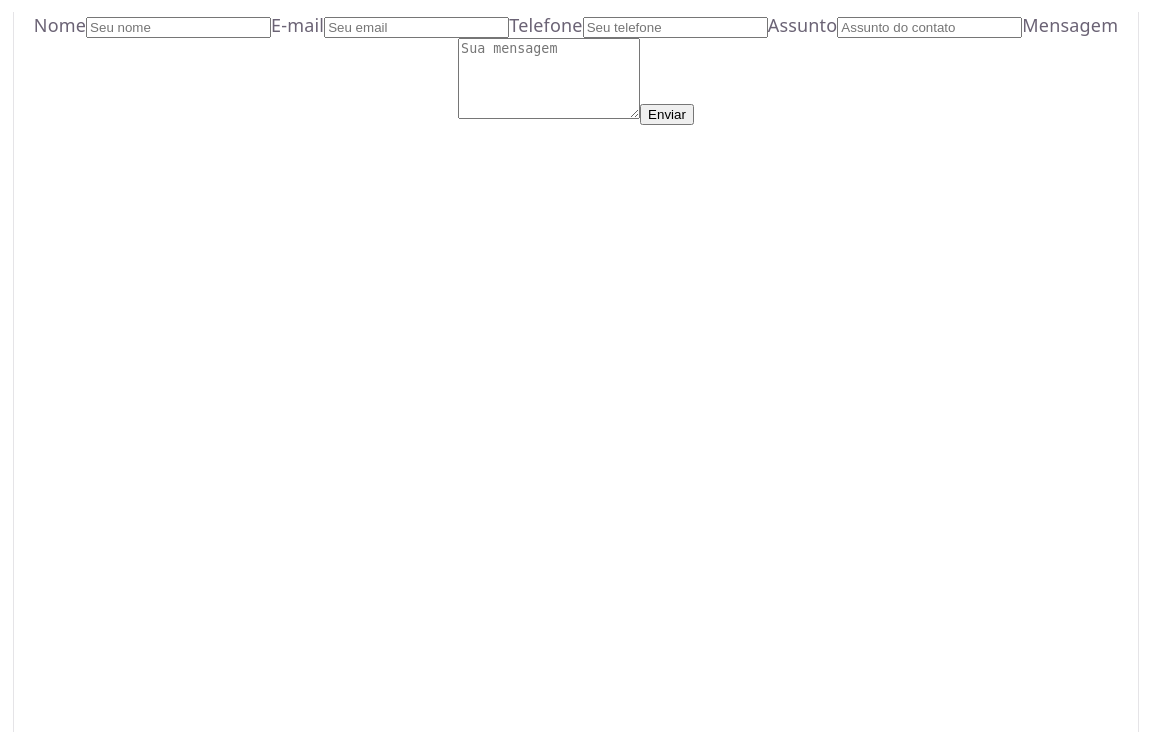
it: Formulário de contato › envia o formulário e apresenta uma confirmação
In the field labelled "Nome": {"x": 179, "y": 28} x1=86 y1=17 x2=271 y2=38, type "Usuario Teste"
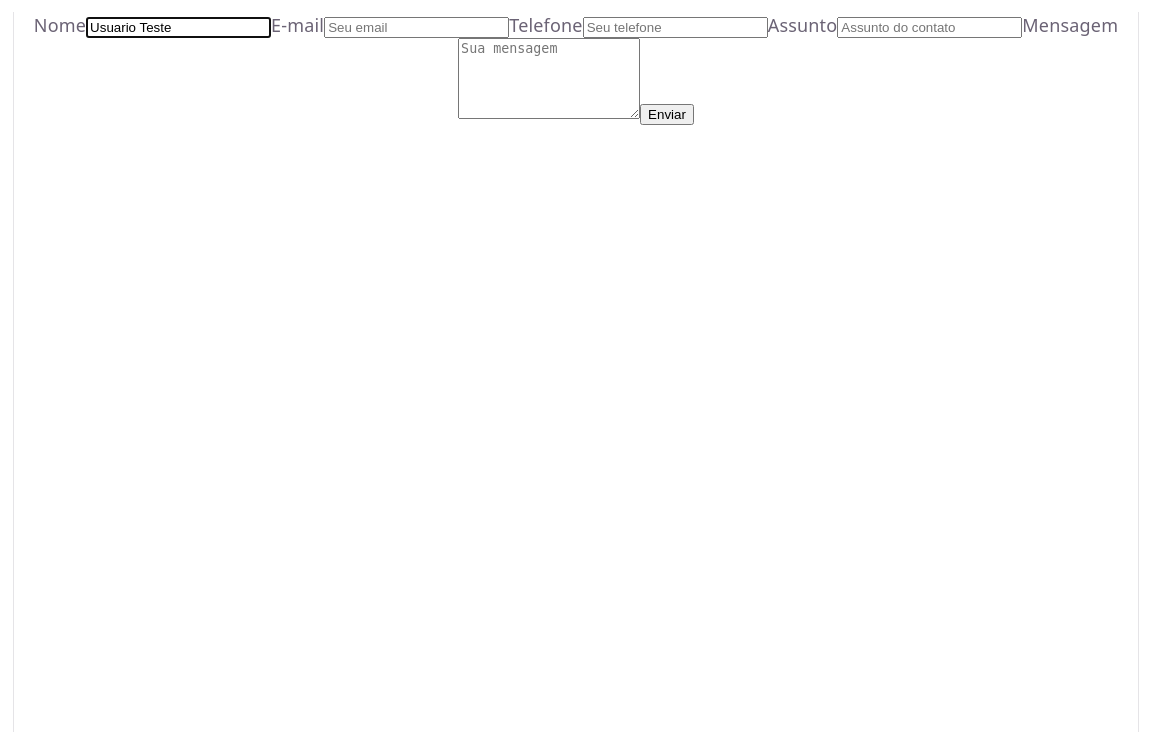
In the field labelled "E-mail": {"x": 417, "y": 28} x1=324 y1=17 x2=509 y2=38, type "teste@email.com"
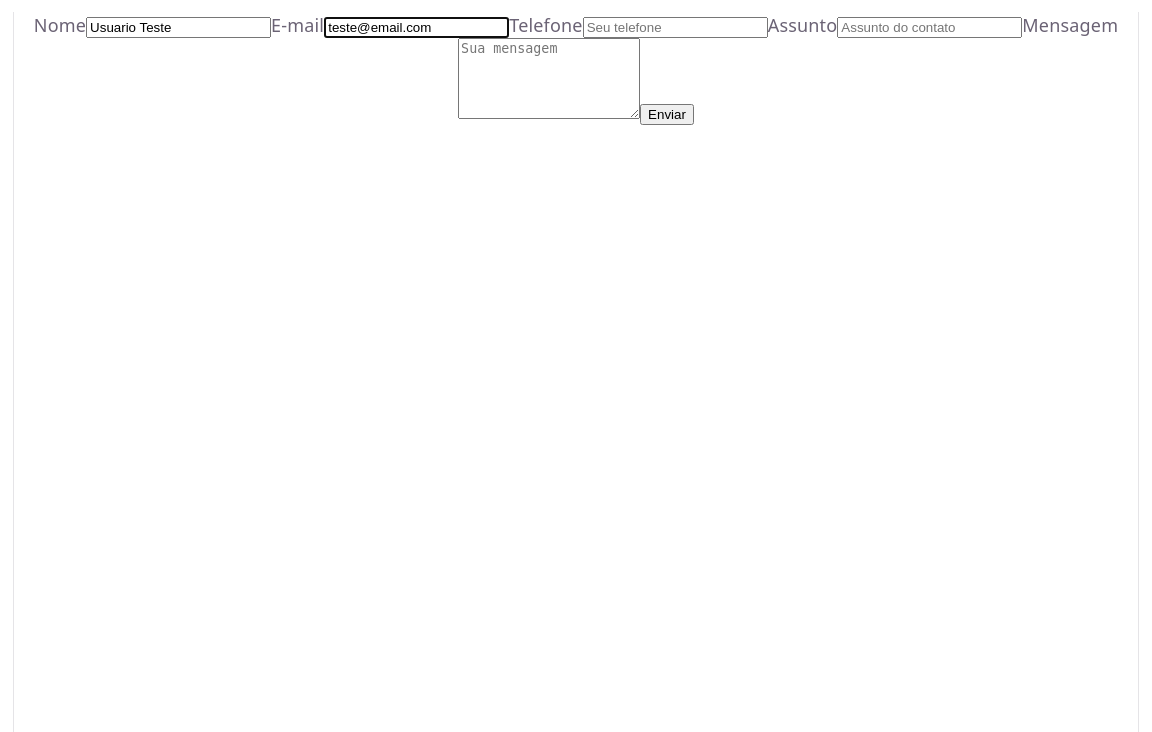
In the field labelled "Telefone": {"x": 675, "y": 28} x1=583 y1=17 x2=768 y2=38, type "31999999999"
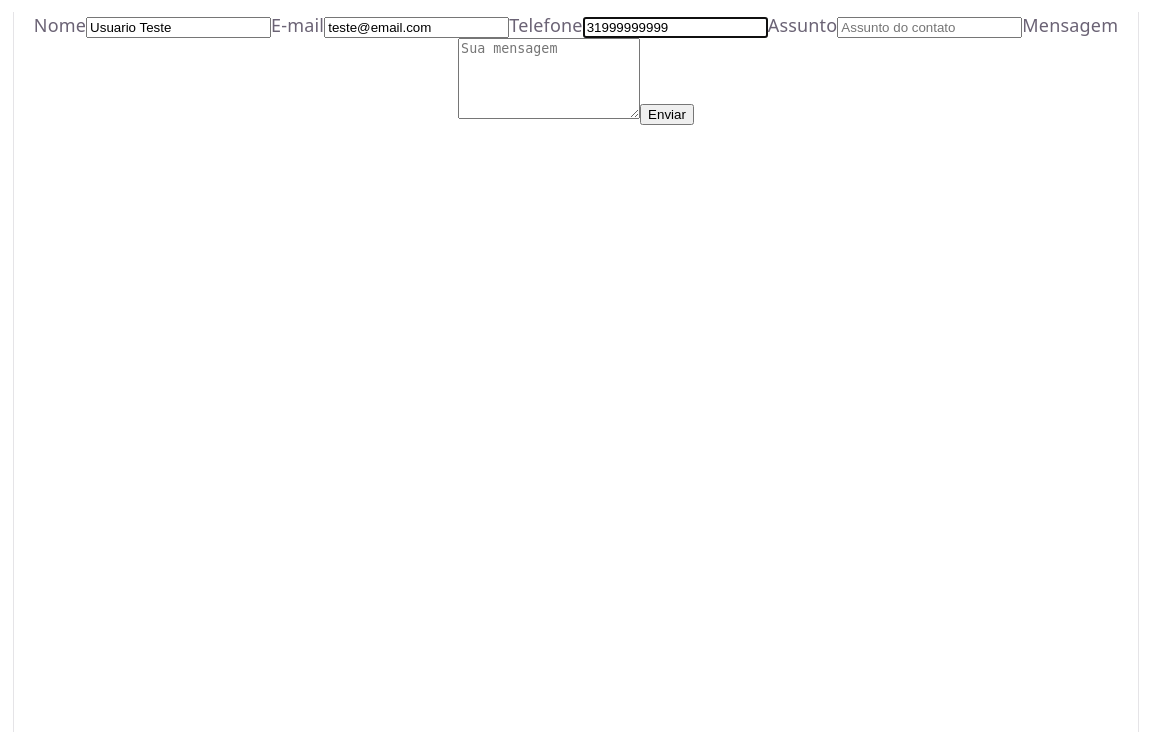
In the field labelled "Assunto": {"x": 930, "y": 28} x1=837 y1=17 x2=1022 y2=38, type "Energia fotovoltaica"
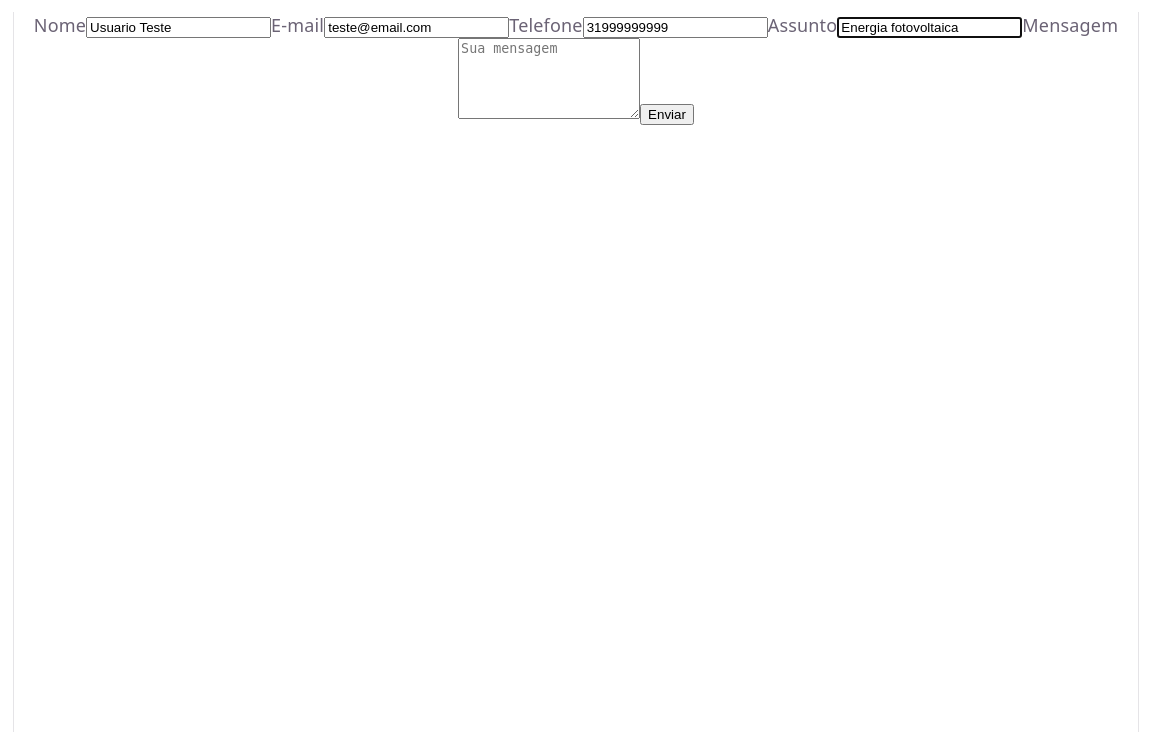
In the text box labelled "Mensagem": {"x": 549, "y": 79} x1=458 y1=38 x2=640 y2=119, type "Gostaria de conhecer as usinas."
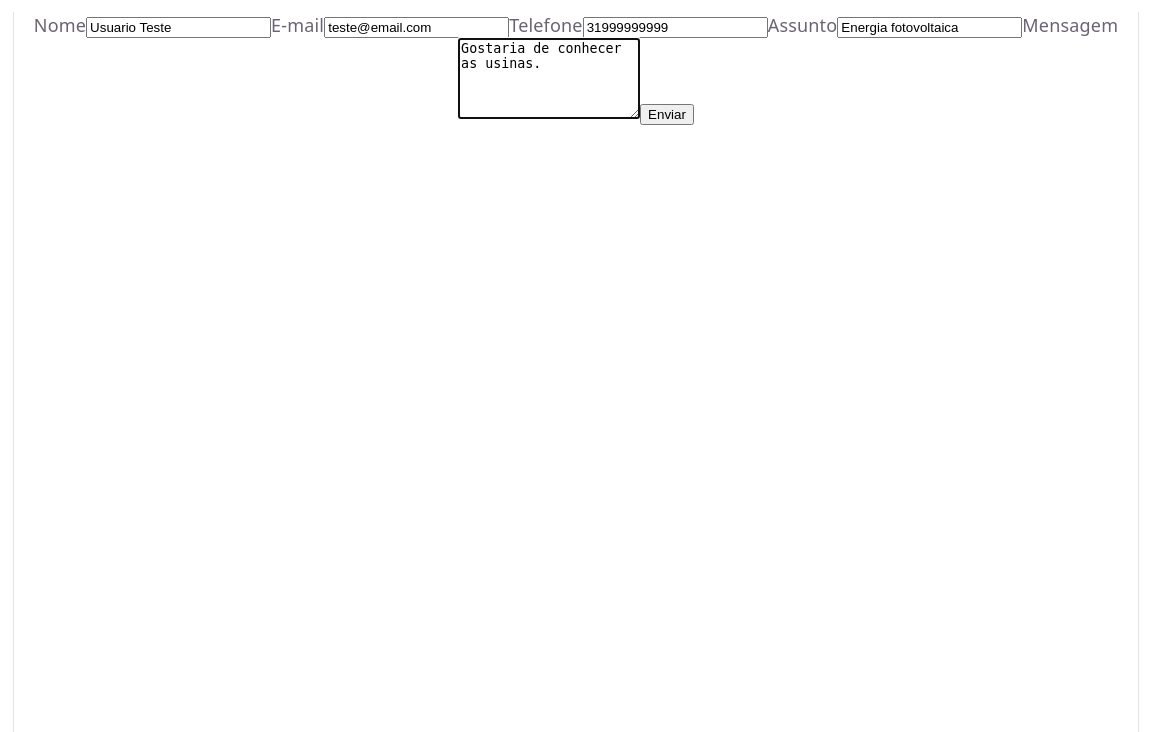
Click the button "Enviar": {"x": 667, "y": 115} x1=640 y1=104 x2=694 y2=125
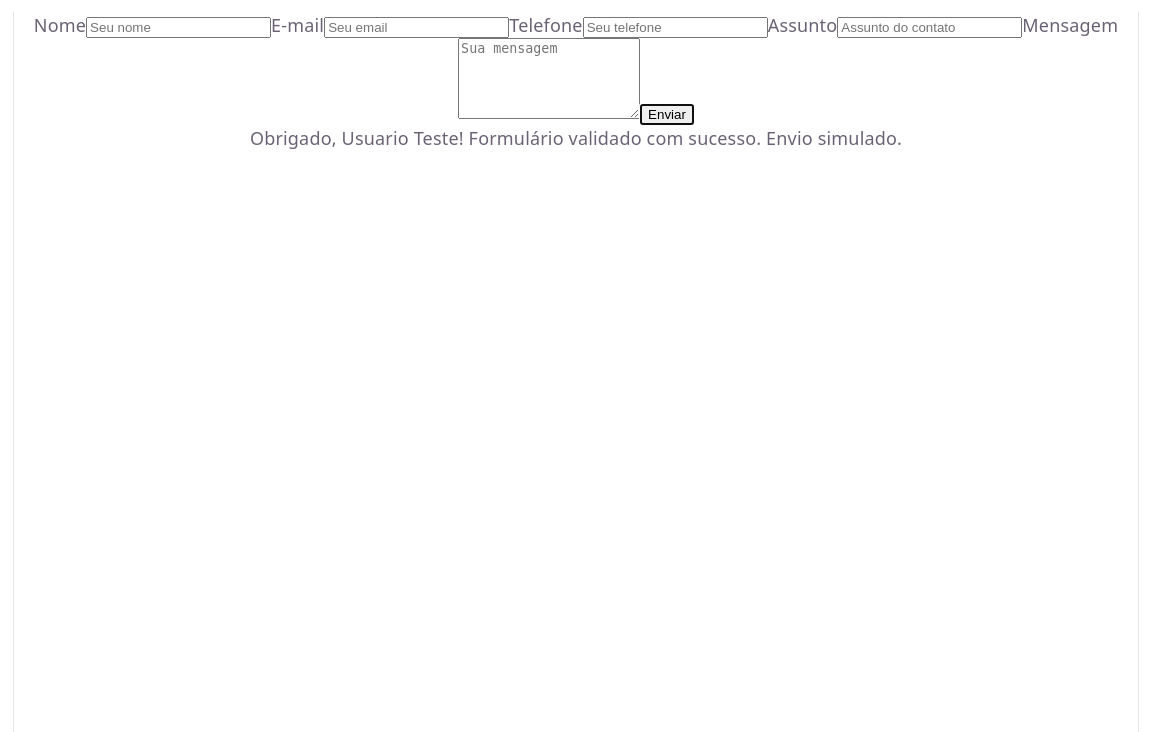
Expected: the message shows "Formulário validado com sucesso", x1=250 y1=126 x2=902 y2=150
Expected: the field labelled "Nome" is empty, x1=86 y1=17 x2=271 y2=38
Expected: the field labelled "E-mail" is empty, x1=324 y1=17 x2=509 y2=38
